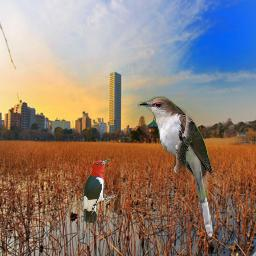Cuckoo: (137, 96, 214, 238)
Woodpecker: (83, 159, 117, 223)
